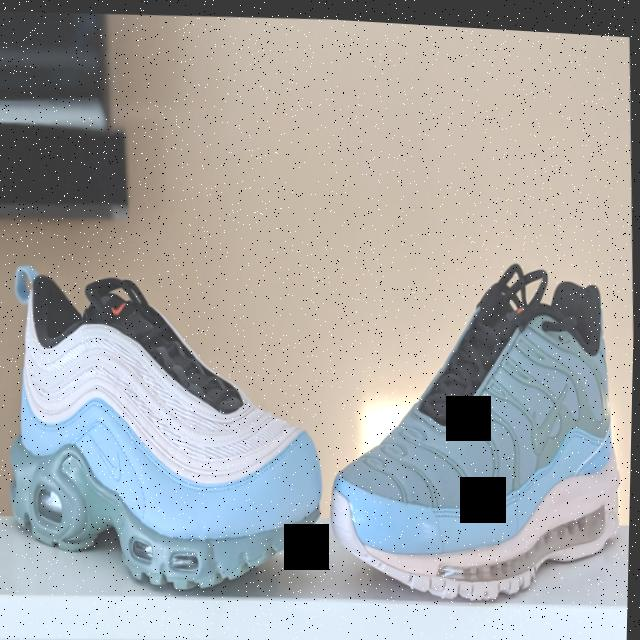shoes: (0, 232, 337, 609), (315, 223, 636, 615)
